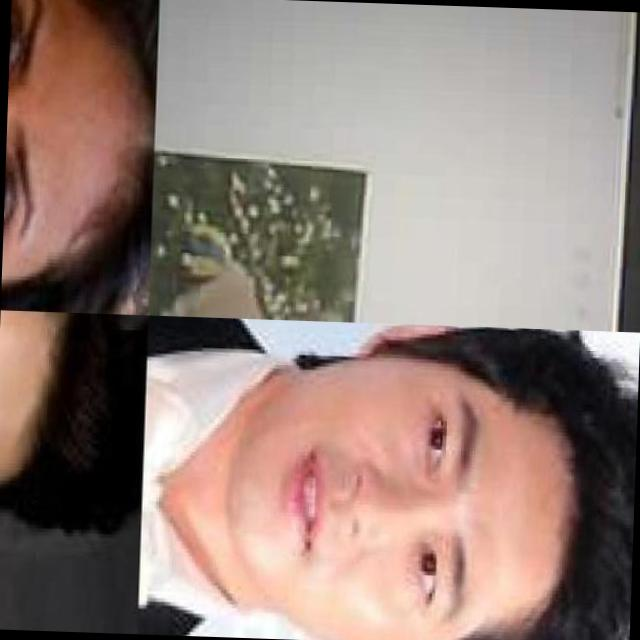bareface: (162, 343, 634, 640)
